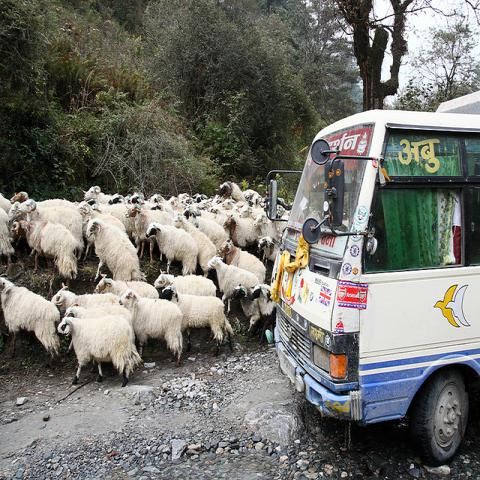bus: (265, 91, 479, 465)
truck: (274, 88, 480, 467)
